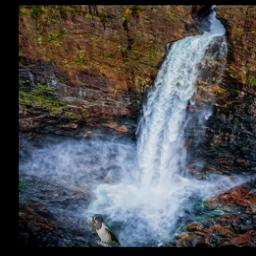Swallow: (92, 214, 124, 246)
